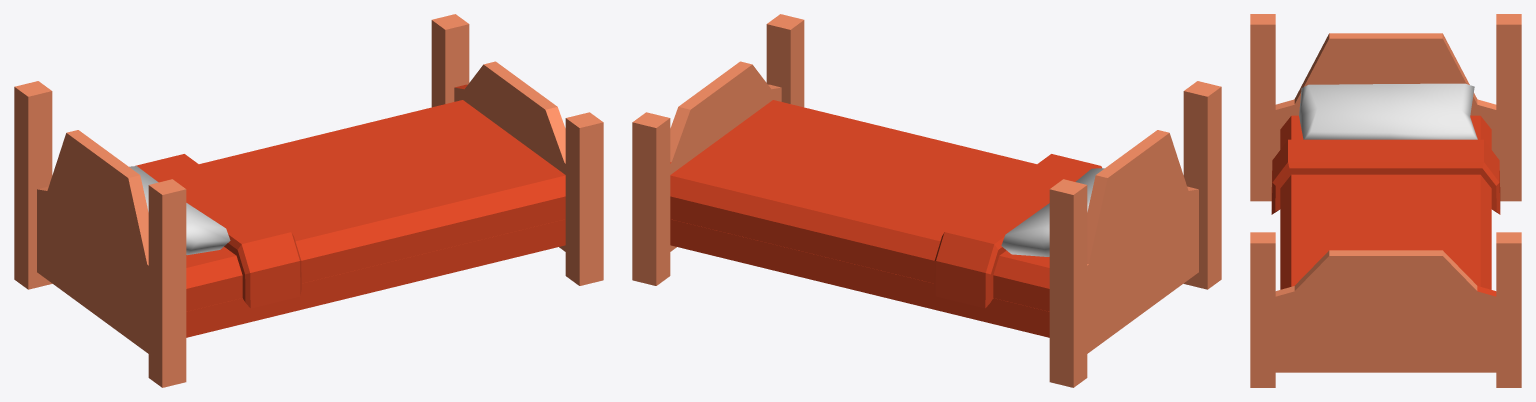
File: Bed.fbx
3 renders of one model, left to right at view 1: azimuth 30°, elevation 25°; view 2: azimuth 150°, elevation 25°; view 3: azimuth 270°, elevation 25°, orthographic. The views are drawn at different scales.
Visible parts, largest first — view 1: Letto_0.002; view 2: Letto_0.002; view 3: Letto_0.002.
Part boxes in pixels (bbox=[...]): Letto_0.002: bbox=[14, 14, 603, 387]; Letto_0.002: bbox=[632, 14, 1221, 387]; Letto_0.002: bbox=[1250, 14, 1521, 387].
Bounding box in the file's own units: 126 × 90.27 × 216.
